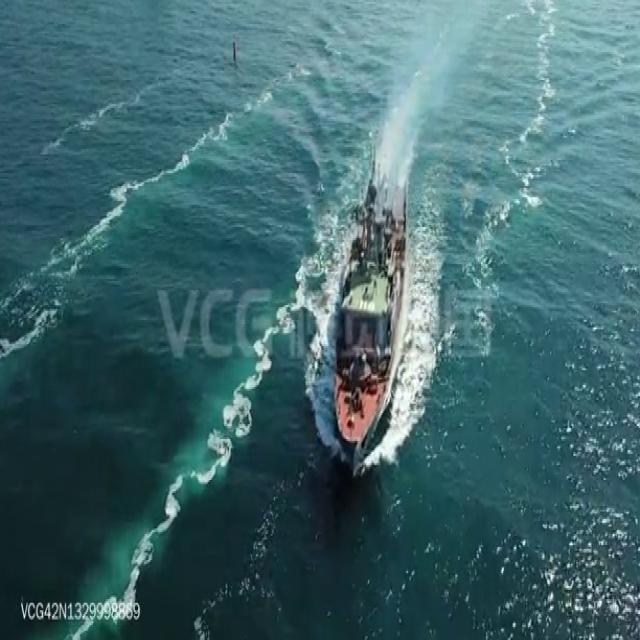navalvessels: (333, 142, 409, 457)
